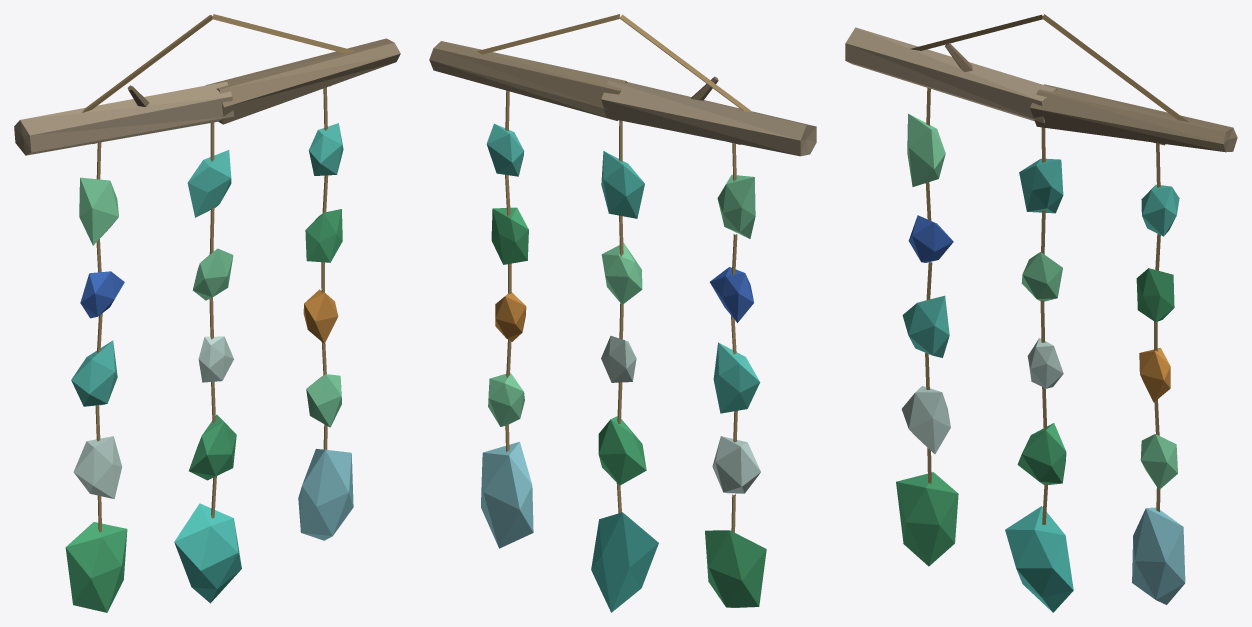
The model's file is sea-glass-chime.glb.
3 renders of one model, left to right at view 1: azimuth 30°, elevation 25°; view 2: azimuth 150°, elevation 25°; view 3: azimuth 330°, elevation 25°, orthographic.
Parts seen in each view (by area): view 1: sea-glass-chime; view 2: sea-glass-chime; view 3: sea-glass-chime.
Boxes of the visible parts, bbox=[...] form: sea-glass-chime: bbox=[14, 14, 400, 612]; sea-glass-chime: bbox=[429, 14, 816, 612]; sea-glass-chime: bbox=[845, 14, 1237, 612].
Bounding box in the file's own units: 0.6929 × 1.06 × 0.0706.
